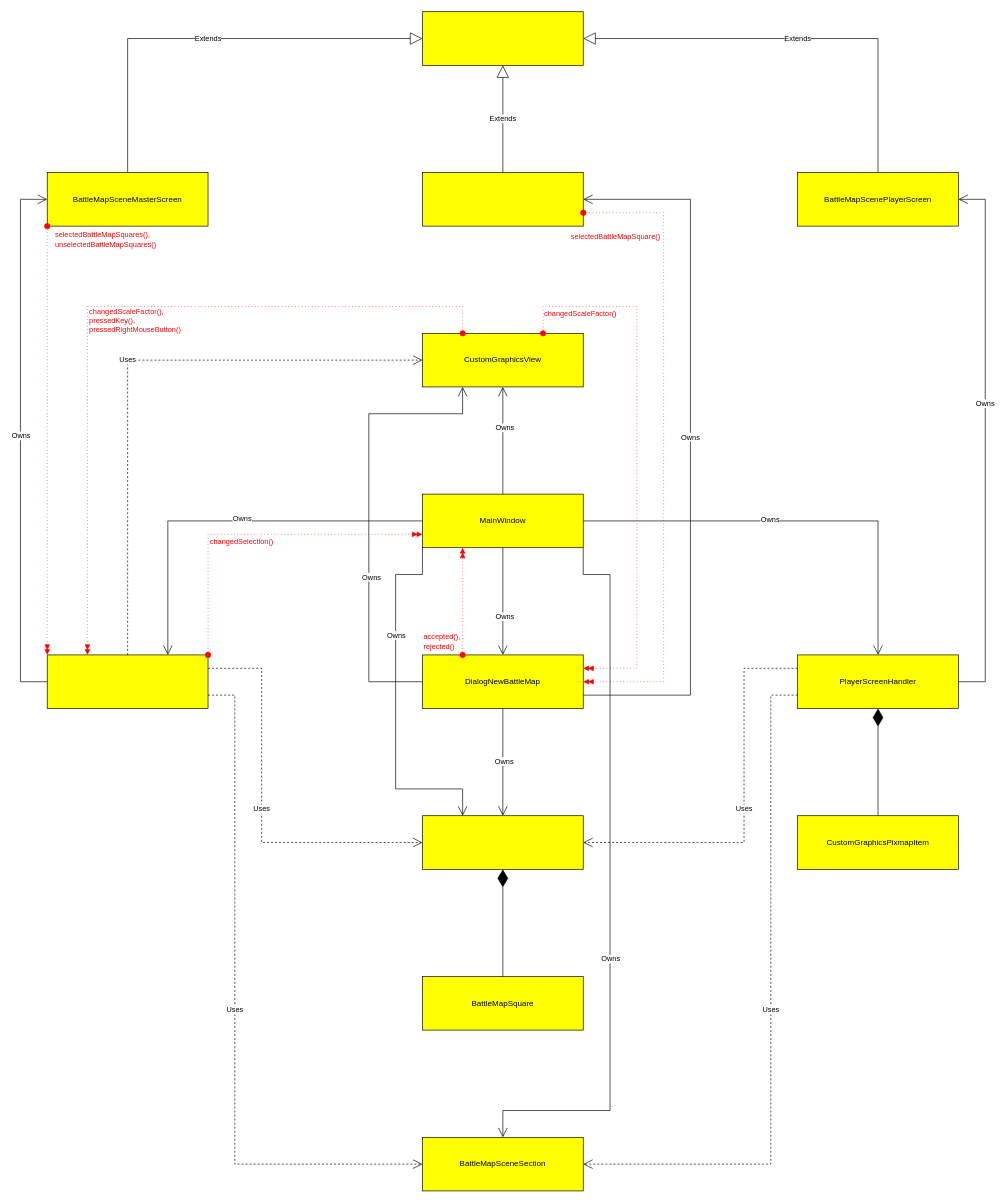
Some shapes in this 1006 by 1203 pixel diagram are drawn without their labels. Here are the shapes that lost their labels. From the top down, the centre of each, then its label:
At [502,38]: "BattleMapScene".
At [502,199]: "BattleMapSceneSquareSelection".
At [127,681]: "MasterScreenHandler".
At [502,842]: "BattleMap".
